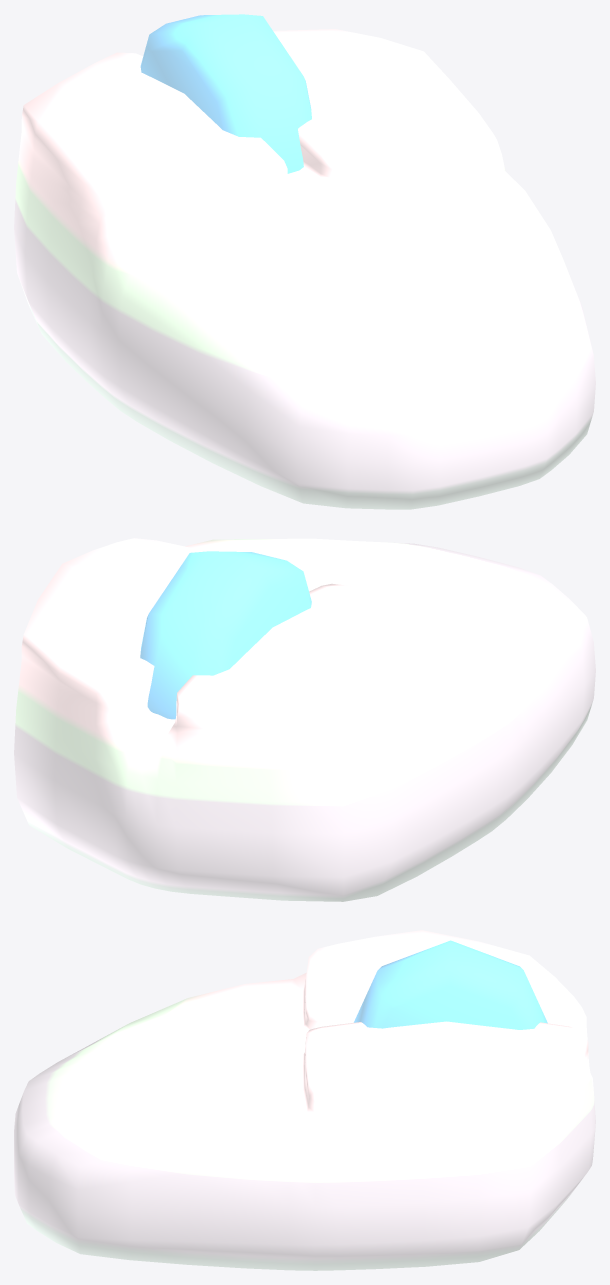
Rendered from mouse.gltf.
3 views of the same model, one above another, from view 1: azimuth 30°, elevation 25°; view 2: azimuth 150°, elevation 25°; view 3: azimuth 270°, elevation 25° (orthographic). The views are drawn at different scales.
Parts seen in each view (by area): view 1: computer_mouse_8; view 2: computer_mouse_8; view 3: computer_mouse_8.
Boxes of the visible parts, x1,y1,x2,y2 form: computer_mouse_8: (14,14,595,509); computer_mouse_8: (14,538,595,901); computer_mouse_8: (14,930,595,1270).
Size of the model in its own units: 0.0987 by 0.0679 by 0.1432.
1 material, 1 textured.
